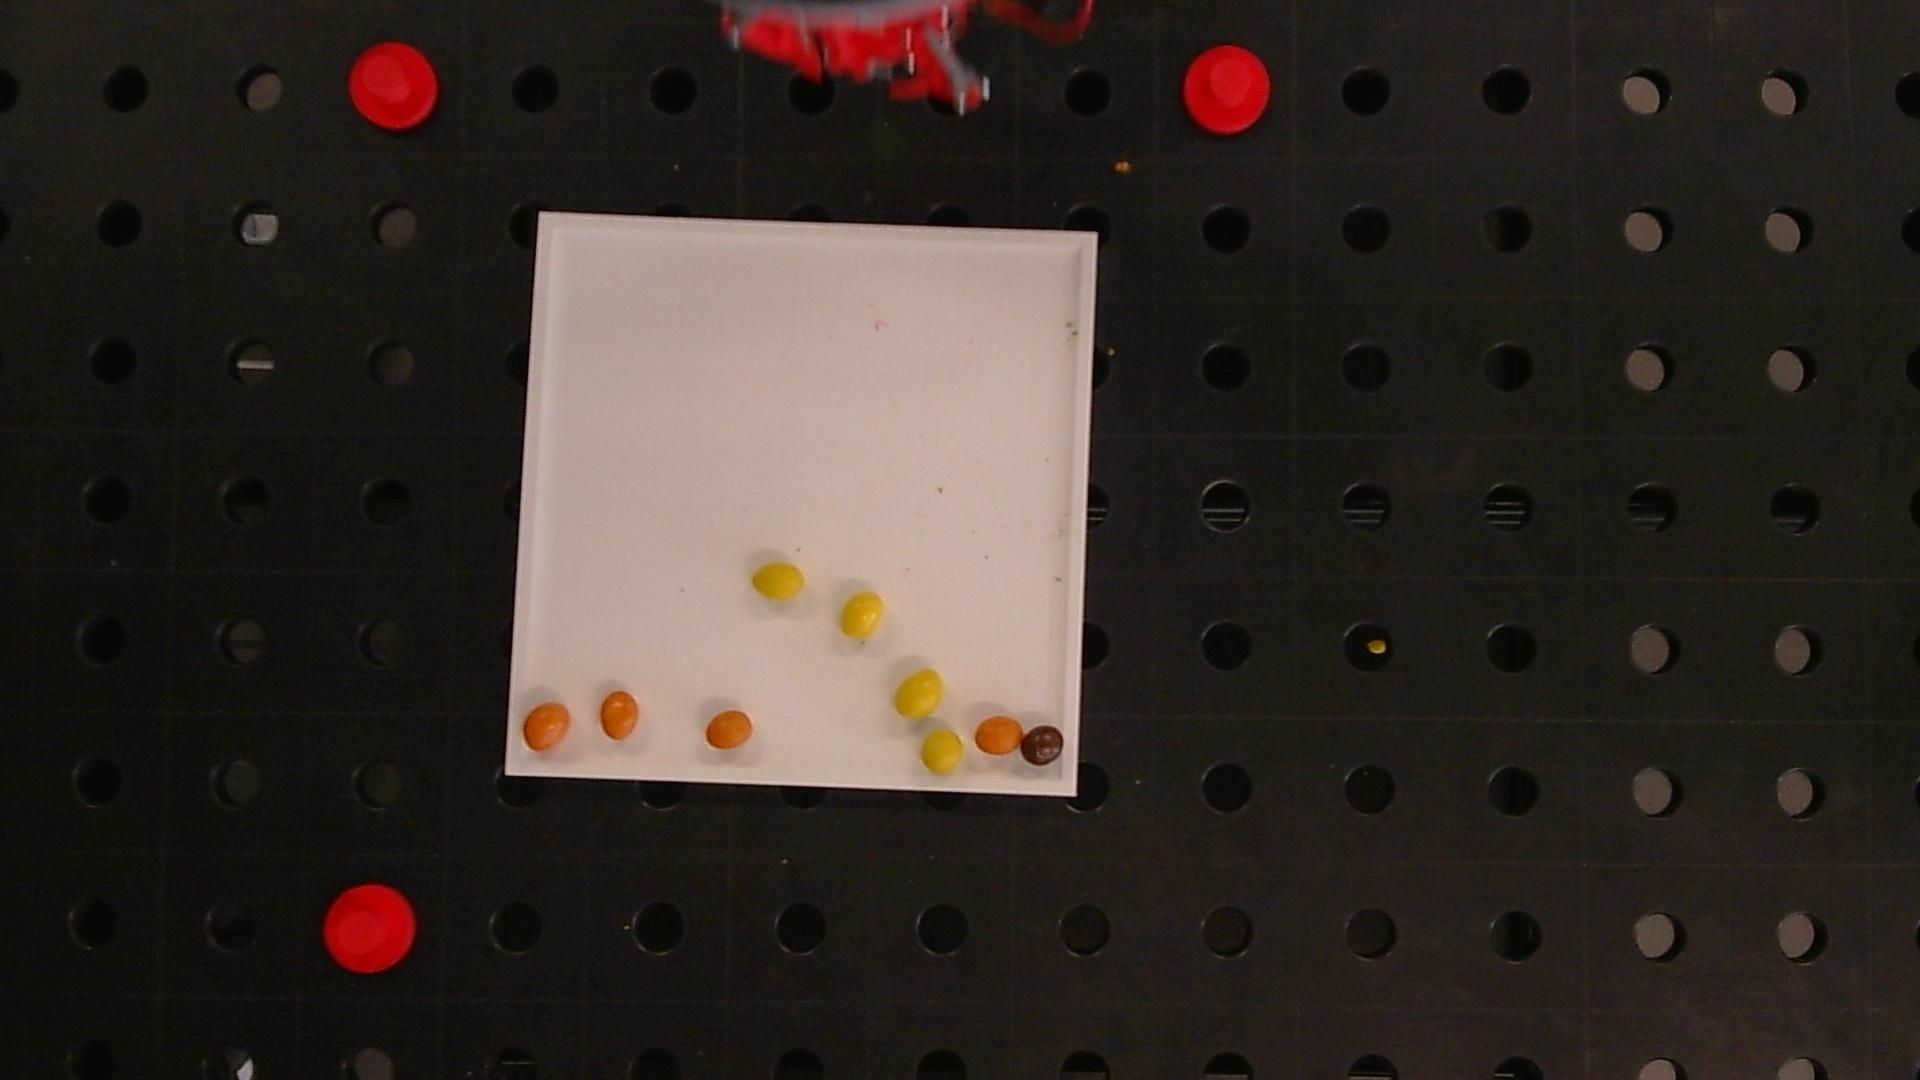brown: (1019, 724, 1064, 765)
orange: (522, 703, 570, 750), (975, 715, 1023, 754), (705, 709, 753, 749), (600, 691, 638, 738)
yellow: (895, 669, 943, 719), (753, 562, 804, 601), (841, 593, 884, 640), (920, 731, 963, 774)
